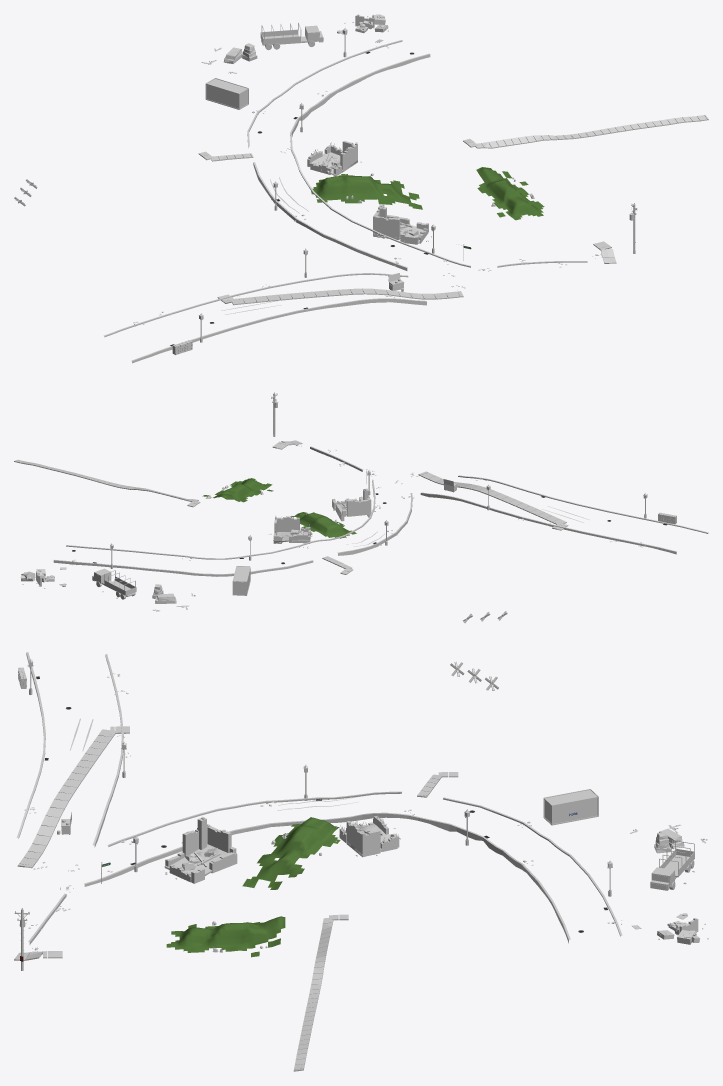
File: outdoor_00.glb
3 views of the same model, one above another, from view 1: azimuth 30°, elevation 25°; view 2: azimuth 150°, elevation 25°; view 3: azimuth 270°, elevation 25° (orthographic). The views are drawn at different scales.
Parts seen in each view (by area): view 1: gas_station_town; view 2: gas_station_town; view 3: gas_station_town.
Part boxes in pixels (box(x1,y1,x2,y2)): gas_station_town: box(14, 14, 708, 363); gas_station_town: box(14, 392, 708, 623); gas_station_town: box(14, 652, 708, 1071).
Bounding box in the file's own units: 116 × 10.76 × 82.57.
Materials: 4 (3 with a texture image).
